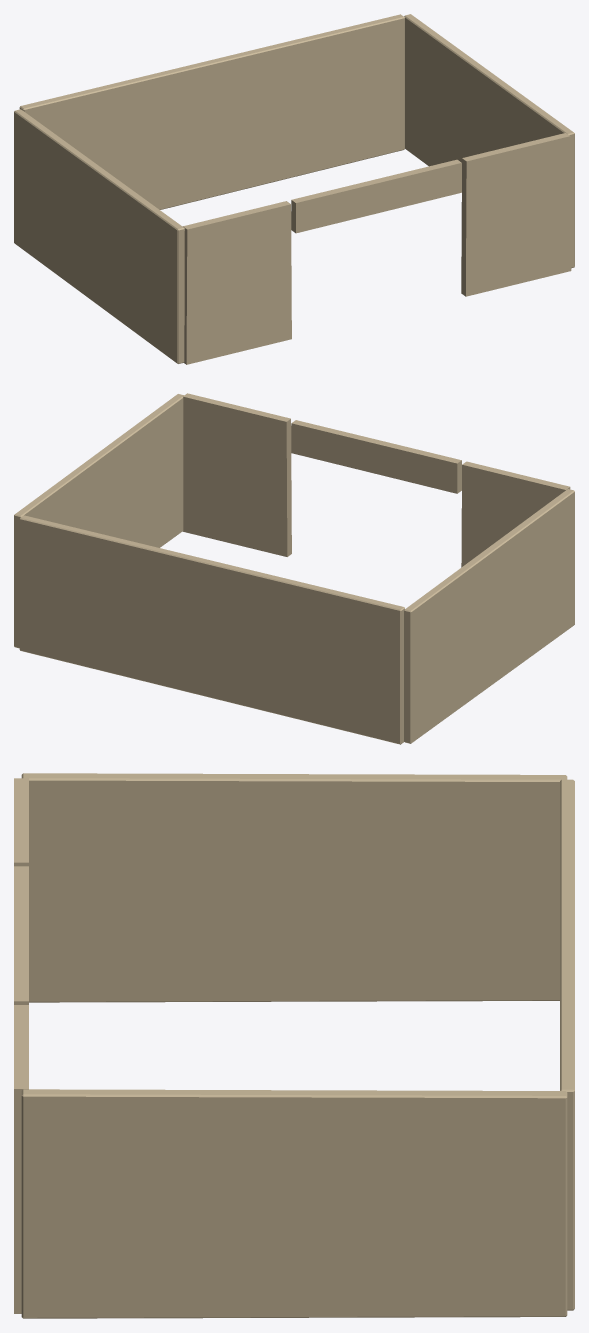
File: ground_wall.glb
The picture shows the model from 3 angles, top to bottom: view 1: azimuth 30°, elevation 25°; view 2: azimuth 150°, elevation 25°; view 3: azimuth 270°, elevation 25°; orthographic projection. The views are drawn at different scales.
Parts seen in each view (by area): view 1: WB002V2_GroundSide.001; view 2: WB002V2_GroundSide.001; view 3: WB002V2_GroundSide.001.
Part boxes in pixels (box(x1,y1,x2,y2)): WB002V2_GroundSide.001: box(14, 14, 574, 364); WB002V2_GroundSide.001: box(14, 393, 574, 744); WB002V2_GroundSide.001: box(14, 773, 574, 1318).
Size of the model in its own units: 15.1 by 4.9 by 11.1.
